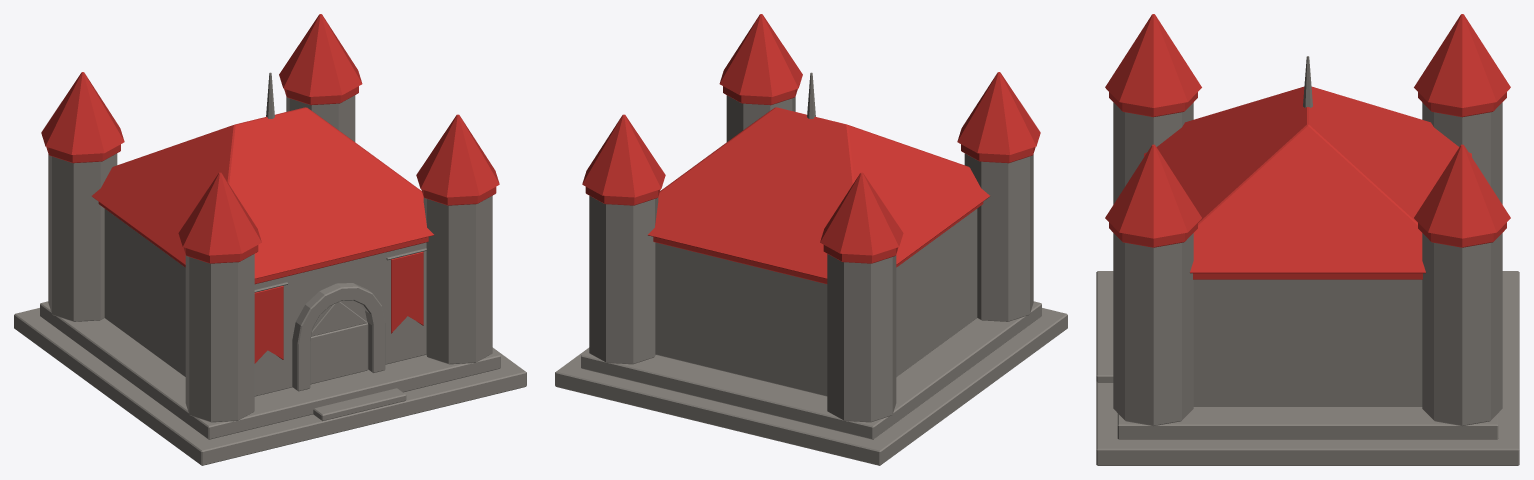
The model's file is command_center_crimson.obj.
3 renders of one model, left to right at view 1: azimuth 30°, elevation 25°; view 2: azimuth 150°, elevation 25°; view 3: azimuth 270°, elevation 25°, orthographic. The views are drawn at different scales.
Visible parts, largest first — view 1: command_center_crimson; view 2: command_center_crimson; view 3: command_center_crimson.
Part boxes in pixels (bbox=[...]): command_center_crimson: bbox=[14, 14, 526, 465]; command_center_crimson: bbox=[555, 14, 1067, 465]; command_center_crimson: bbox=[1096, 14, 1519, 465].
Size of the model in its own units: 10 by 8.36 by 10.
